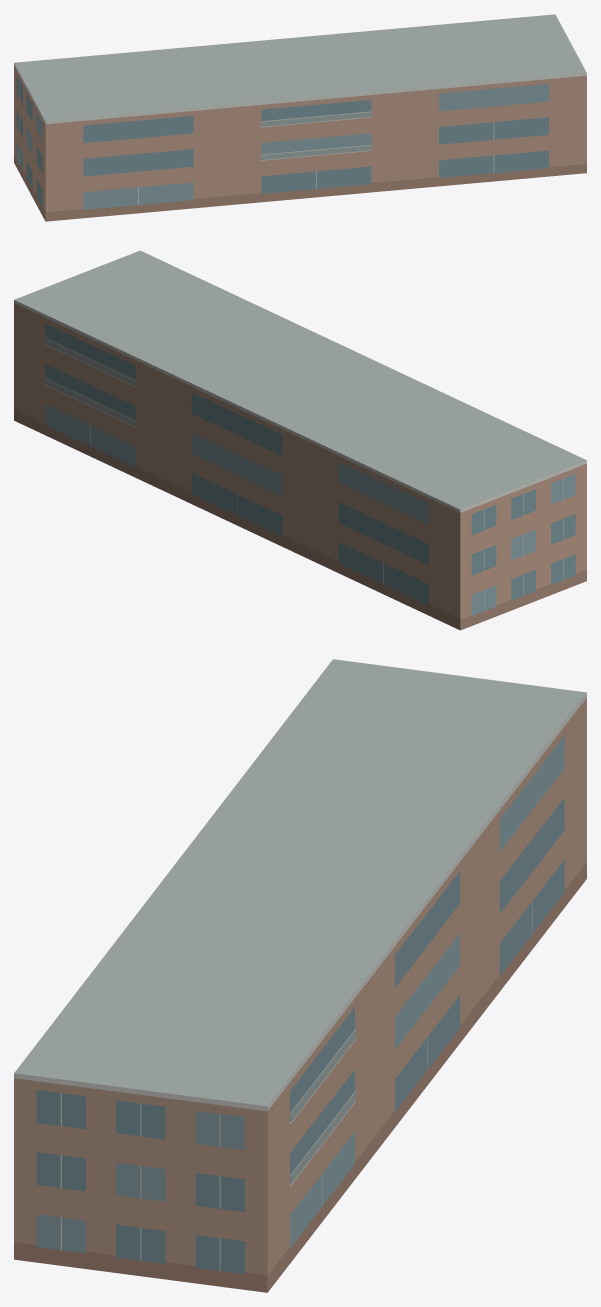
File: survey-upis-32922938.glb
The picture shows the model from 3 angles, top to bottom: view 1: azimuth 30°, elevation 25°; view 2: azimuth 150°, elevation 25°; view 3: azimuth 270°, elevation 25°; orthographic projection. The views are drawn at different scales.
Visible parts, largest first — view 1: survey-upis-32922938.tmp; view 2: survey-upis-32922938.tmp; view 3: survey-upis-32922938.tmp.
Boxes of the visible parts, <box> form: survey-upis-32922938.tmp: <box>14,14,586,221</box>; survey-upis-32922938.tmp: <box>14,250,586,630</box>; survey-upis-32922938.tmp: <box>14,659,586,1292</box>.
Bounding box in the file's own units: 47.11 × 9.15 × 25.5.
